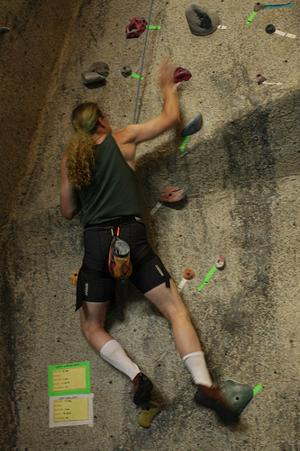person: (59, 57, 234, 432)
